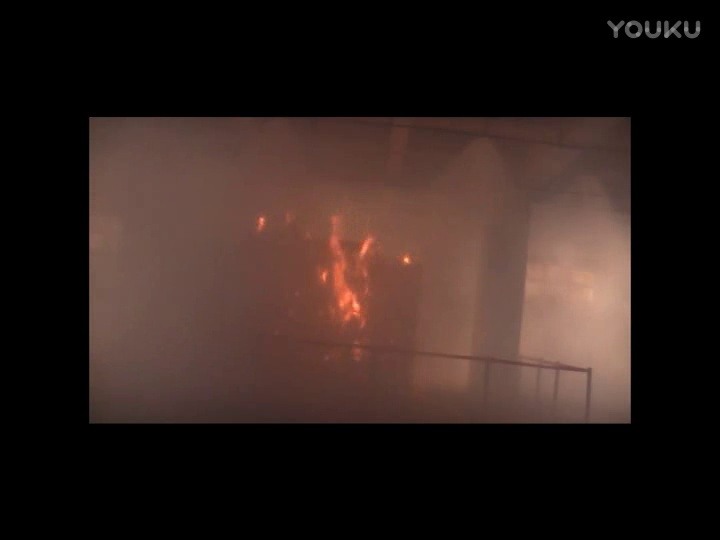fire: (326, 220, 363, 320)
